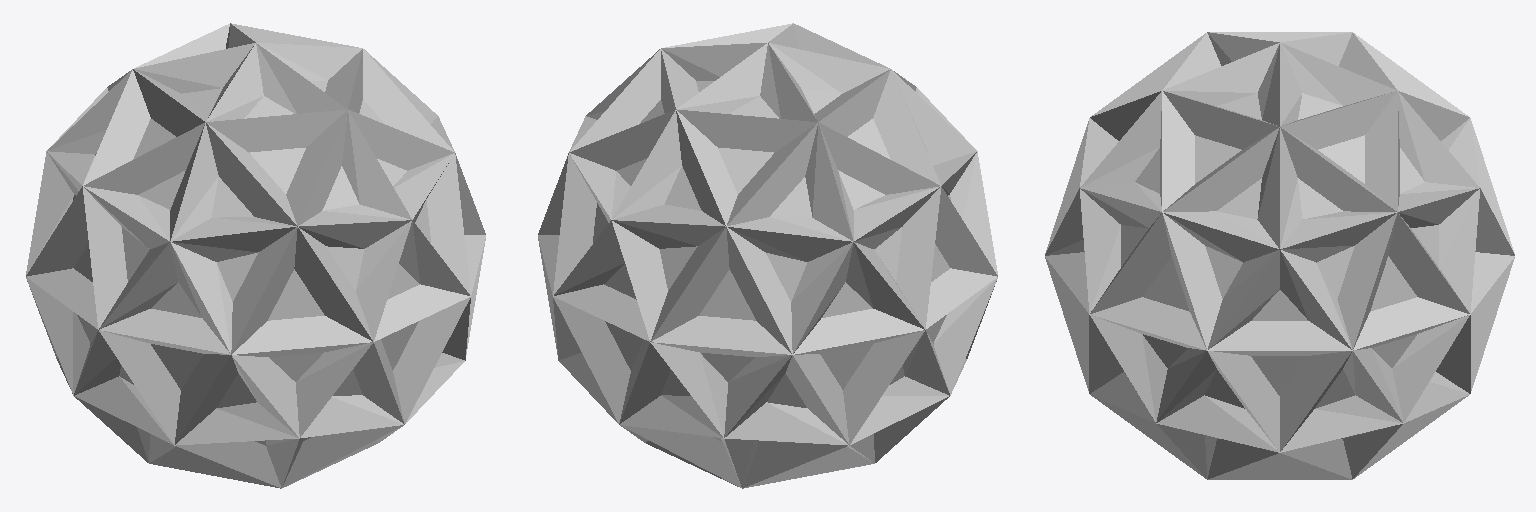
Rendered from iso4.obj.
3 renders of one model, left to right at view 1: azimuth 30°, elevation 25°; view 2: azimuth 150°, elevation 25°; view 3: azimuth 270°, elevation 25°, orthographic.
Parts seen in each view (by area): view 1: Icosphere_Icosphere.001; view 2: Icosphere_Icosphere.001; view 3: Icosphere_Icosphere.001.
Boxes of the visible parts, <box> form: Icosphere_Icosphere.001: <box>26,23,485,488</box>; Icosphere_Icosphere.001: <box>538,23,997,488</box>; Icosphere_Icosphere.001: <box>1045,32,1514,479</box>.
Size of the model in its own units: 1.9 by 2 by 2.